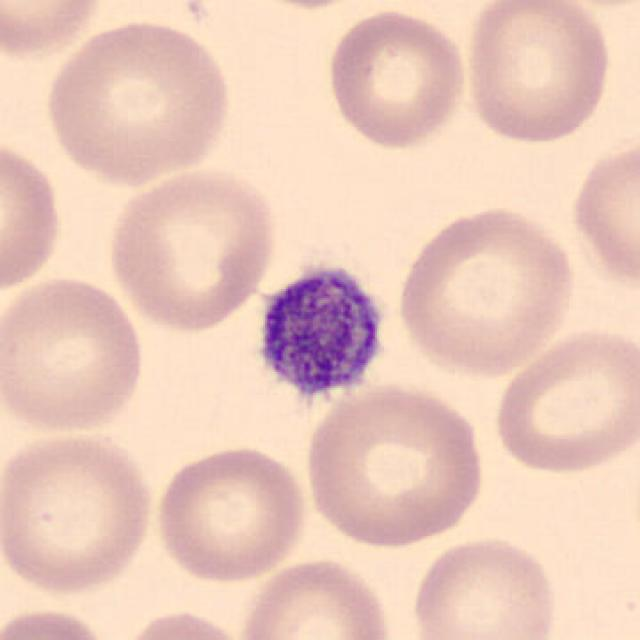Platelets: (245, 257, 395, 416)
RBC: (39, 16, 237, 189), (393, 201, 581, 381), (298, 377, 491, 552), (103, 162, 283, 335), (0, 425, 160, 599), (0, 271, 149, 437), (149, 441, 313, 585), (489, 322, 638, 478), (458, 0, 615, 146), (322, 5, 471, 152), (407, 530, 561, 640), (232, 553, 398, 640), (566, 136, 638, 296), (0, 132, 66, 298), (0, 0, 108, 61), (111, 606, 252, 640), (0, 603, 117, 640), (223, 0, 380, 12), (540, 0, 638, 14)
